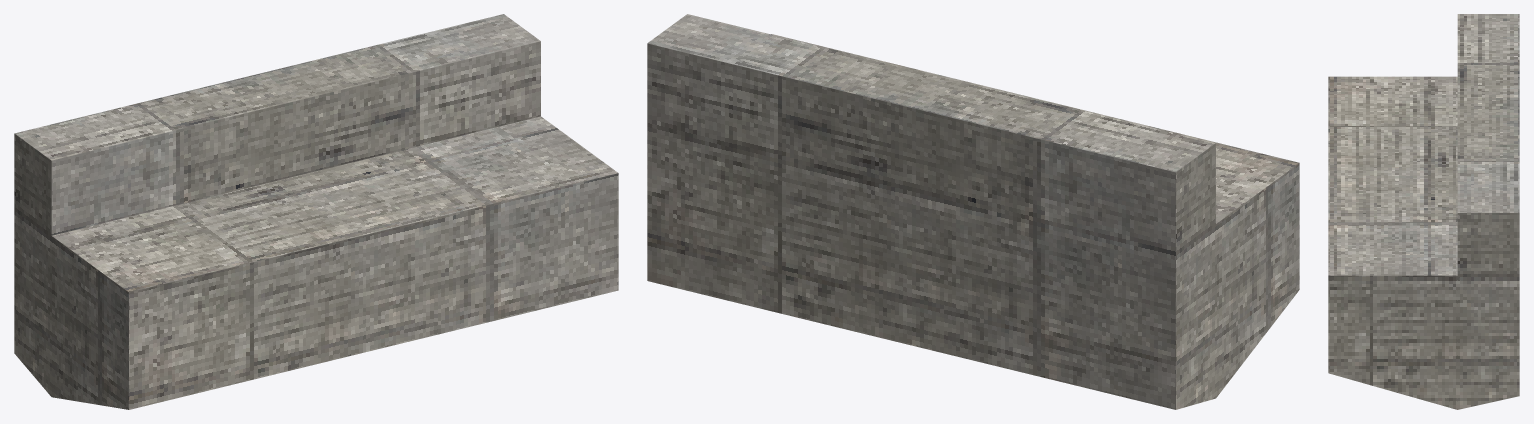
The model's file is ledgecover.glb.
3 renders of one model, left to right at view 1: azimuth 30°, elevation 25°; view 2: azimuth 150°, elevation 25°; view 3: azimuth 270°, elevation 25°, orthographic. The views are drawn at different scales.
Visible parts, largest first — view 1: Ledge; view 2: Ledge; view 3: Ledge.
Part boxes in pixels (box(x1,y1,x2,y2)): Ledge: box(14, 14, 618, 409); Ledge: box(647, 14, 1299, 409); Ledge: box(1328, 14, 1519, 409).
Size of the model in its own units: 4.96 by 2.29 by 2.01.
Materials: 1 (1 with a texture image).
